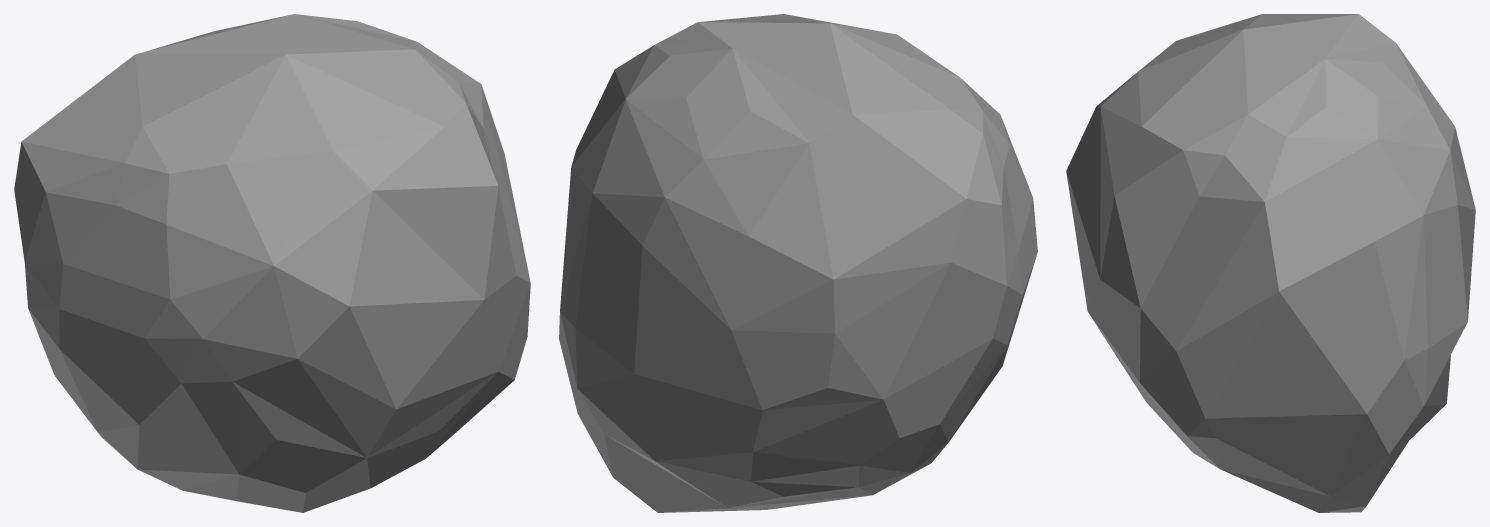
Rendered from Rock_012.glb.
3 views of the same model, side by side, from view 1: azimuth 30°, elevation 25°; view 2: azimuth 150°, elevation 25°; view 3: azimuth 270°, elevation 25° (orthographic). The views are drawn at different scales.
Visible parts, largest first — view 1: Rock_012; view 2: Rock_012; view 3: Rock_012.
Part boxes in pixels (x1=…): Rock_012: x1=14, y1=14, x2=530, y2=512; Rock_012: x1=559, y1=14, x2=1037, y2=512; Rock_012: x1=1066, y1=14, x2=1475, y2=512.
Bounding box in the file's own units: 1.16 × 1.15 × 0.9871.
1 material, 1 textured.
